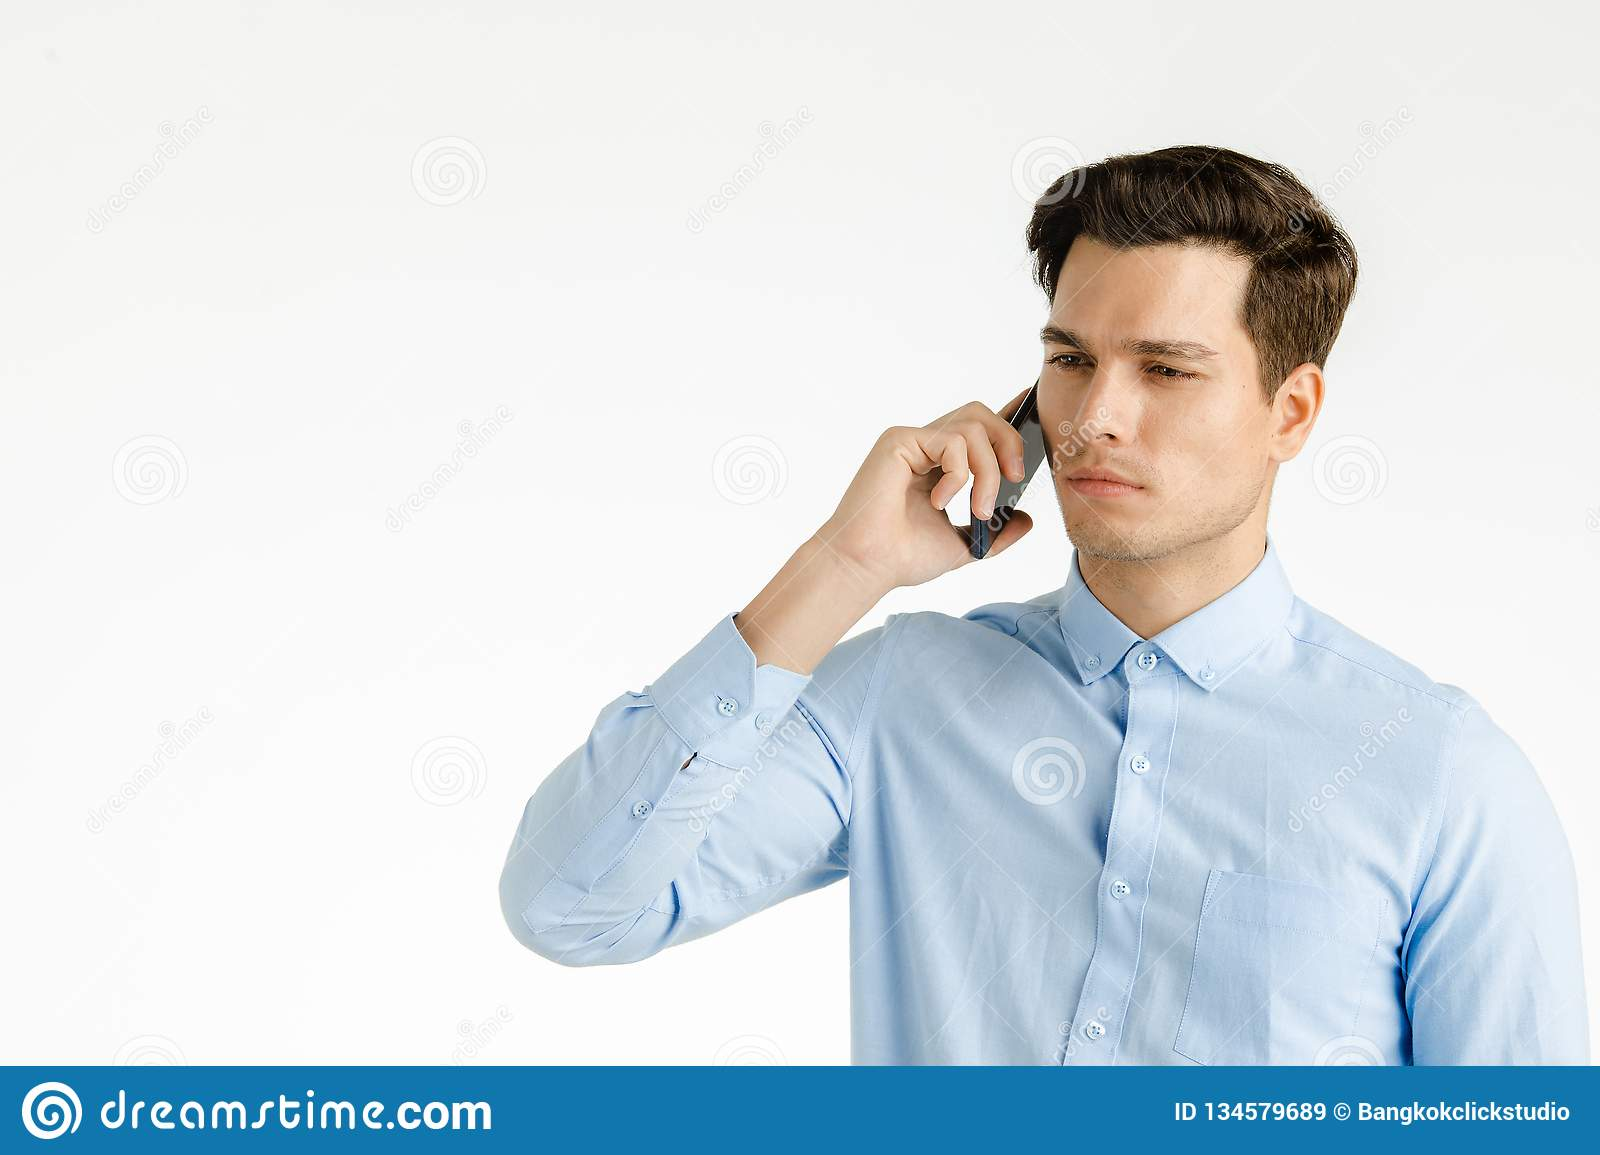phone: (961, 366, 1048, 569)
talk: (824, 314, 1234, 604)
